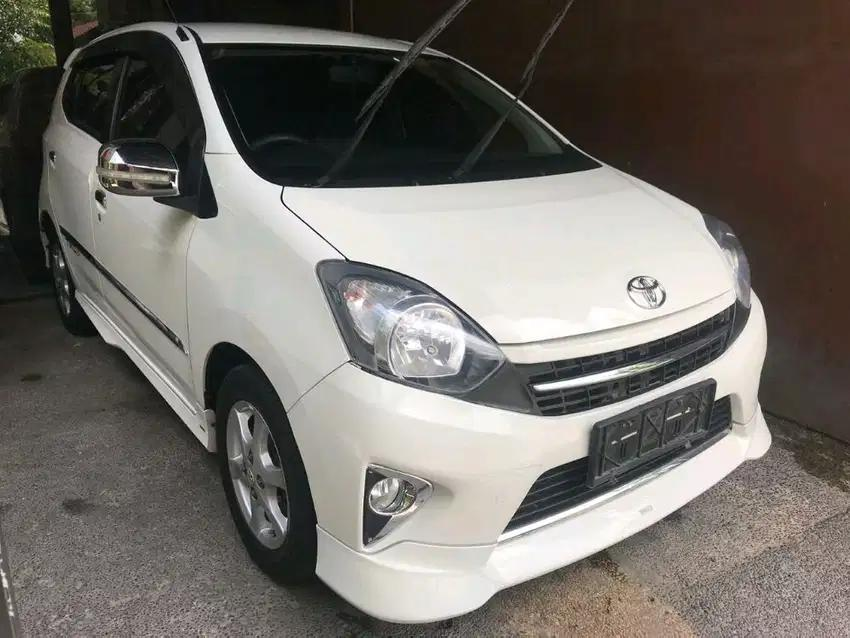mobil: (29, 13, 785, 610)
